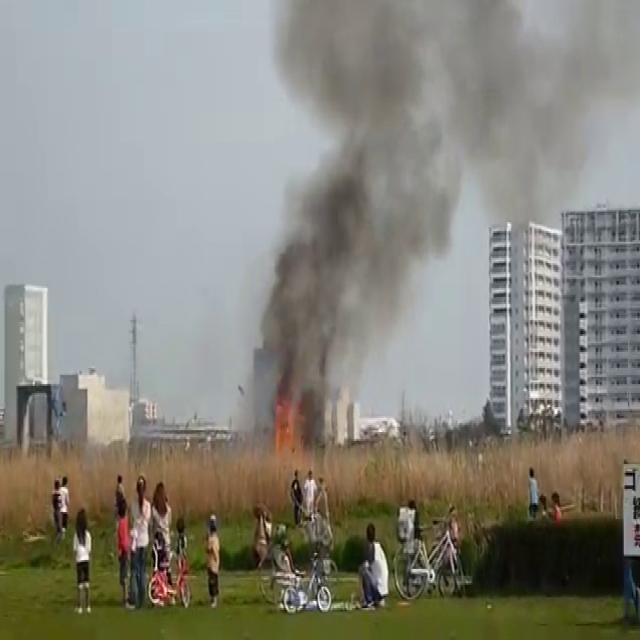Fire: (268, 397, 298, 457)
Smoke: (246, 0, 630, 436)
